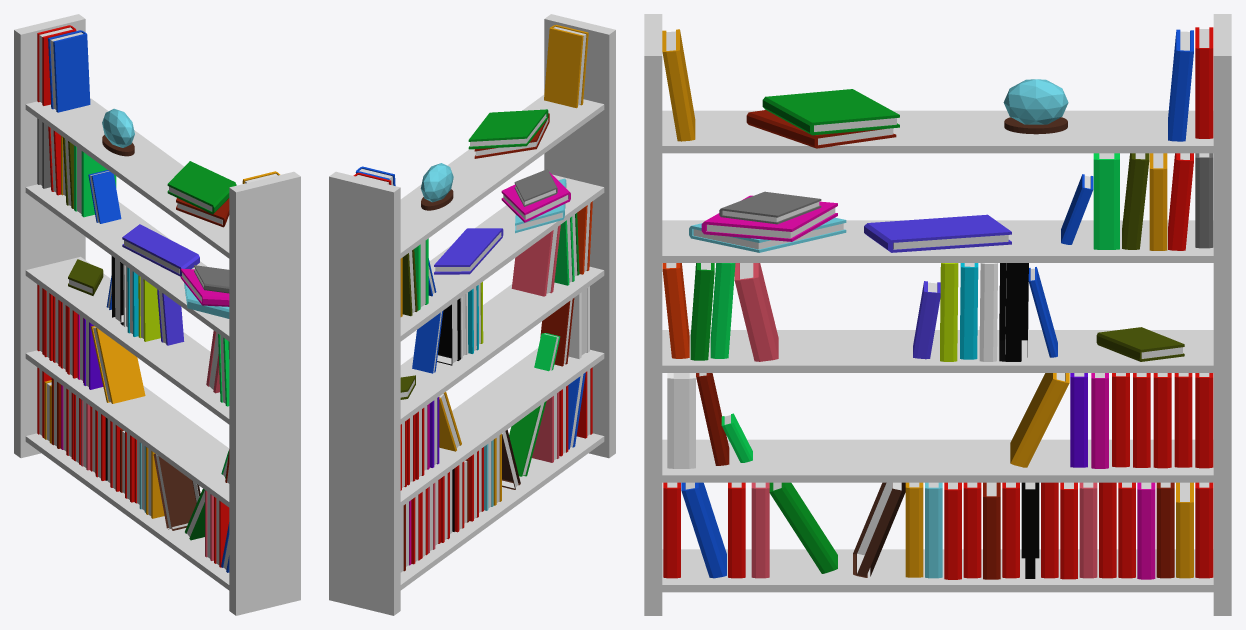
Rendered from Bookcase.fbx.
3 renders of one model, left to right at view 1: azimuth 30°, elevation 25°; view 2: azimuth 150°, elevation 25°; view 3: azimuth 270°, elevation 25°, orthographic. The views are drawn at different scales.
Visible parts, largest first — view 1: Cube.007; view 2: Cube.007; view 3: Cube.007.
Part boxes in pixels (box(x1,y1,x2,y2)): Cube.007: box(14, 14, 300, 615); Cube.007: box(329, 14, 615, 615); Cube.007: box(644, 14, 1231, 615).
Size of the model in its own units: 98.74 by 616 by 586.
